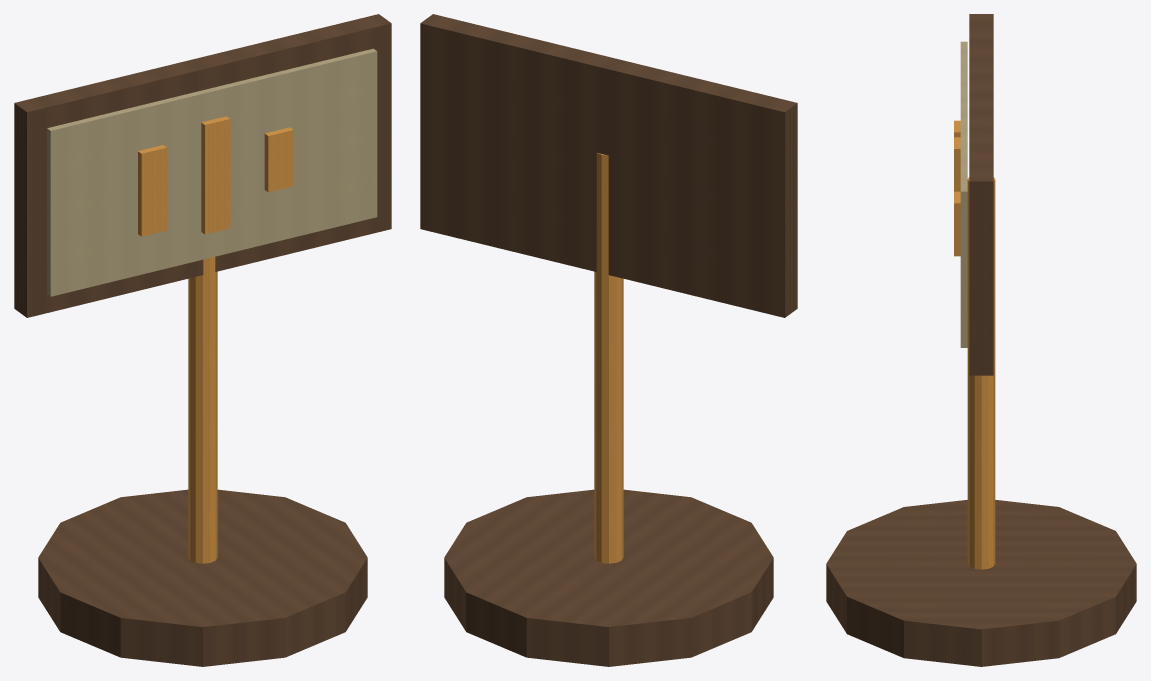
Rendered from atlas100-s013-a11.glb.
The picture shows the model from 3 angles, left to right: view 1: azimuth 30°, elevation 25°; view 2: azimuth 150°, elevation 25°; view 3: azimuth 270°, elevation 25°; orthographic projection. The views are drawn at different scales.
Visible parts, largest first — view 1: atlas100-s013-a11:part-003, atlas100-s013-a11:part-000, atlas100-s013-a11:part-002, atlas100-s013-a11:part-001, atlas100-s013-a11:part-005, atlas100-s013-a11:part-004, atlas100-s013-a11:part-006; view 2: atlas100-s013-a11:part-002, atlas100-s013-a11:part-000, atlas100-s013-a11:part-001; view 3: atlas100-s013-a11:part-000, atlas100-s013-a11:part-002, atlas100-s013-a11:part-001, atlas100-s013-a11:part-003, atlas100-s013-a11:part-006.
Boxes of the visible parts, <box> form: atlas100-s013-a11:part-003: <box>47,48,377,296</box>; atlas100-s013-a11:part-000: <box>38,489,367,666</box>; atlas100-s013-a11:part-002: <box>14,14,391,317</box>; atlas100-s013-a11:part-001: <box>188,257,217,563</box>; atlas100-s013-a11:part-005: <box>201,116,230,234</box>; atlas100-s013-a11:part-004: <box>138,145,166,236</box>; atlas100-s013-a11:part-006: <box>264,127,293,192</box>; atlas100-s013-a11:part-002: <box>420,14,797,317</box>; atlas100-s013-a11:part-000: <box>444,489,773,666</box>; atlas100-s013-a11:part-001: <box>594,153,623,563</box>; atlas100-s013-a11:part-000: <box>826,500,1136,666</box>; atlas100-s013-a11:part-002: <box>969,14,993,375</box>; atlas100-s013-a11:part-001: <box>967,177,995,569</box>; atlas100-s013-a11:part-003: <box>960,41,967,347</box>; atlas100-s013-a11:part-006: <box>954,191,960,256</box>.
Bounding box in the file's own units: 1.15 × 1.61 × 0.9.
3 materials, 3 textured.
